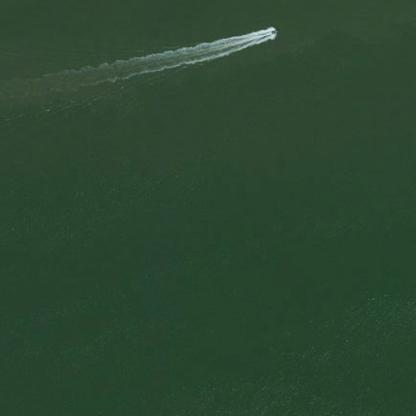ship: (270, 26, 279, 33)
